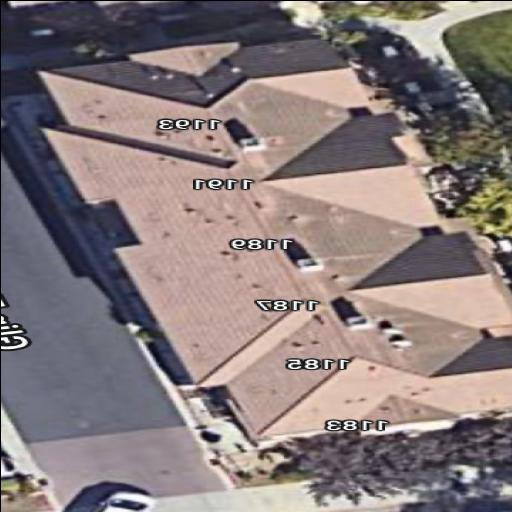Slope-Roof: (39, 37, 504, 439)
